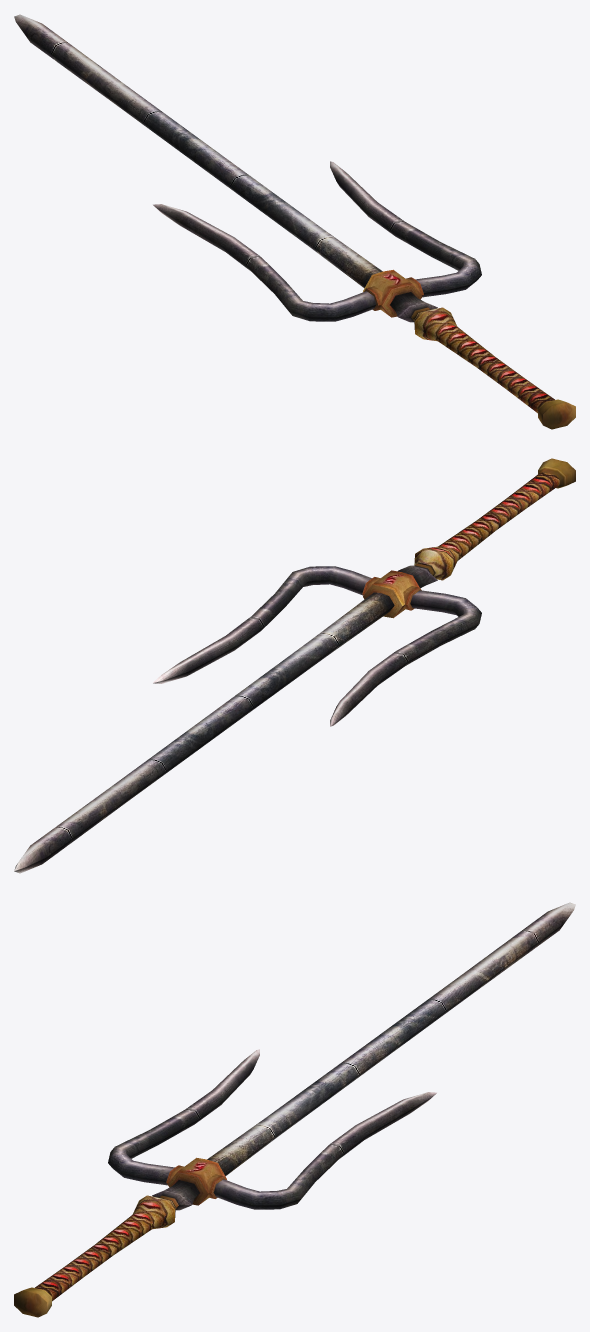
The model's file is sword_sword_w_7_sword_7.glb.
The picture shows the model from 3 angles, top to bottom: view 1: azimuth 30°, elevation 25°; view 2: azimuth 150°, elevation 25°; view 3: azimuth 330°, elevation 25°; orthographic projection.
Bounding box in the file's own units: 0.2847 × 0.0425 × 1.42.
1 material, 1 textured.
